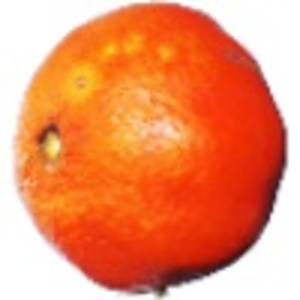tangerina: (8, 1, 290, 300)
